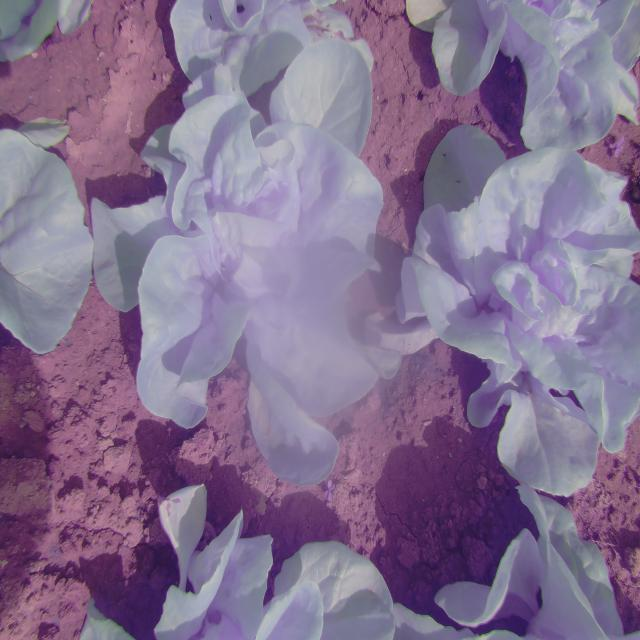vege: (95, 72, 408, 482)
